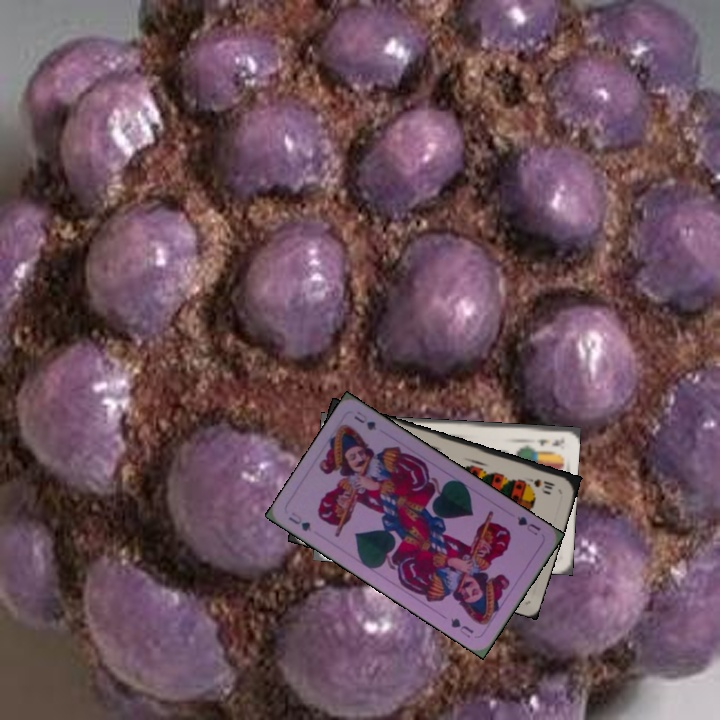EK: (533, 436, 564, 449)
GU: (511, 512, 543, 538), (284, 508, 314, 534)
S10: (520, 473, 558, 492)
